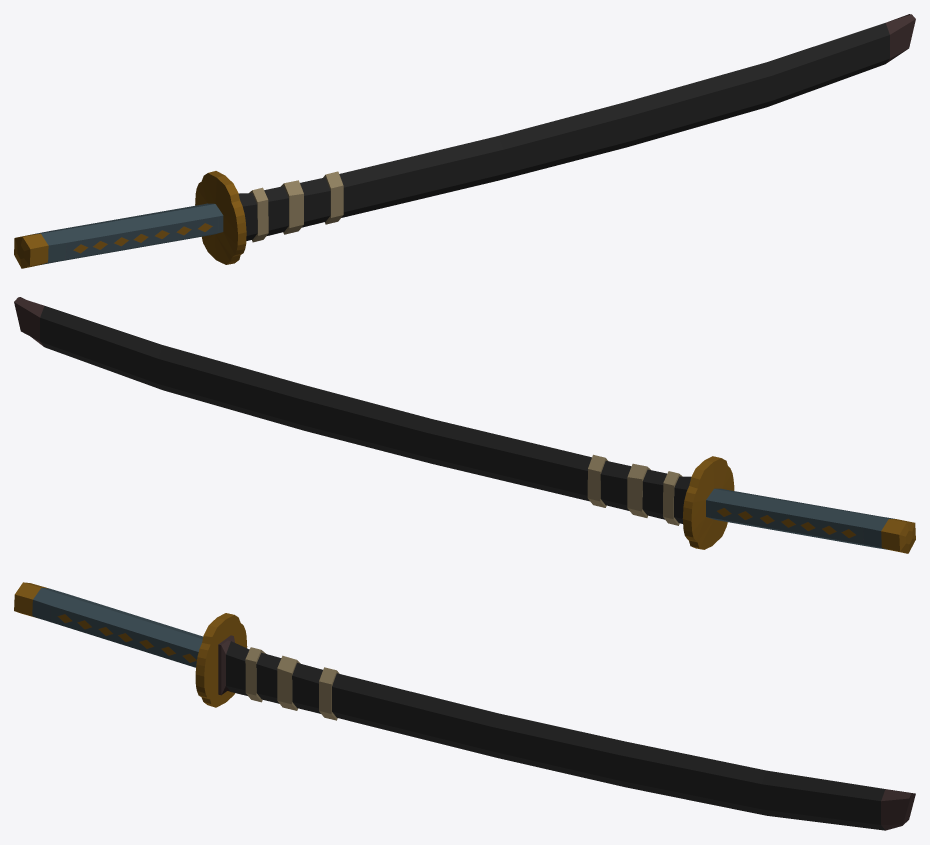
The model's file is Katana.fbx.
3 renders of one model, top to bottom at view 1: azimuth 30°, elevation 25°; view 2: azimuth 150°, elevation 25°; view 3: azimuth 330°, elevation 25°, orthographic.
Parts seen in each view (by area): view 1: Sheath_2, Katana_2; view 2: Sheath_2, Katana_2; view 3: Sheath_2, Katana_2.
Boxes of the visible parts, x1,y1,x2,y2 form: Sheath_2: (238,14,915,242); Katana_2: (14,171,246,268); Sheath_2: (14,297,691,525); Katana_2: (682,456,915,553); Sheath_2: (218,635,915,830); Katana_2: (14,582,247,707).
Size of the model in its own units: 106 by 9.43 by 8.83.
